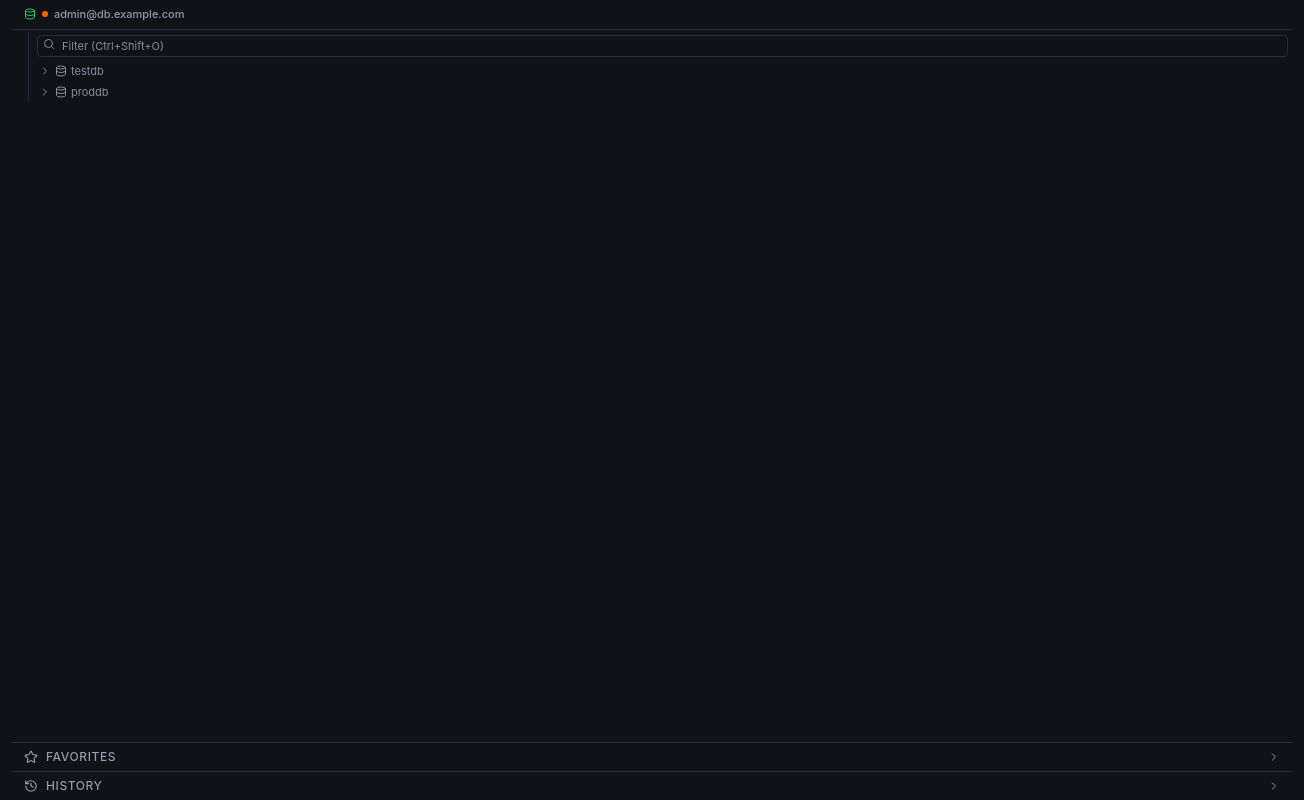
Sidebar (browser) › with active connection › collapses database on second click
Expected: the text "testdb" is shown, 71,63 -> 104,80
Click the list item "testdb" at x=87, y=71, box 33,61 -> 1292,82
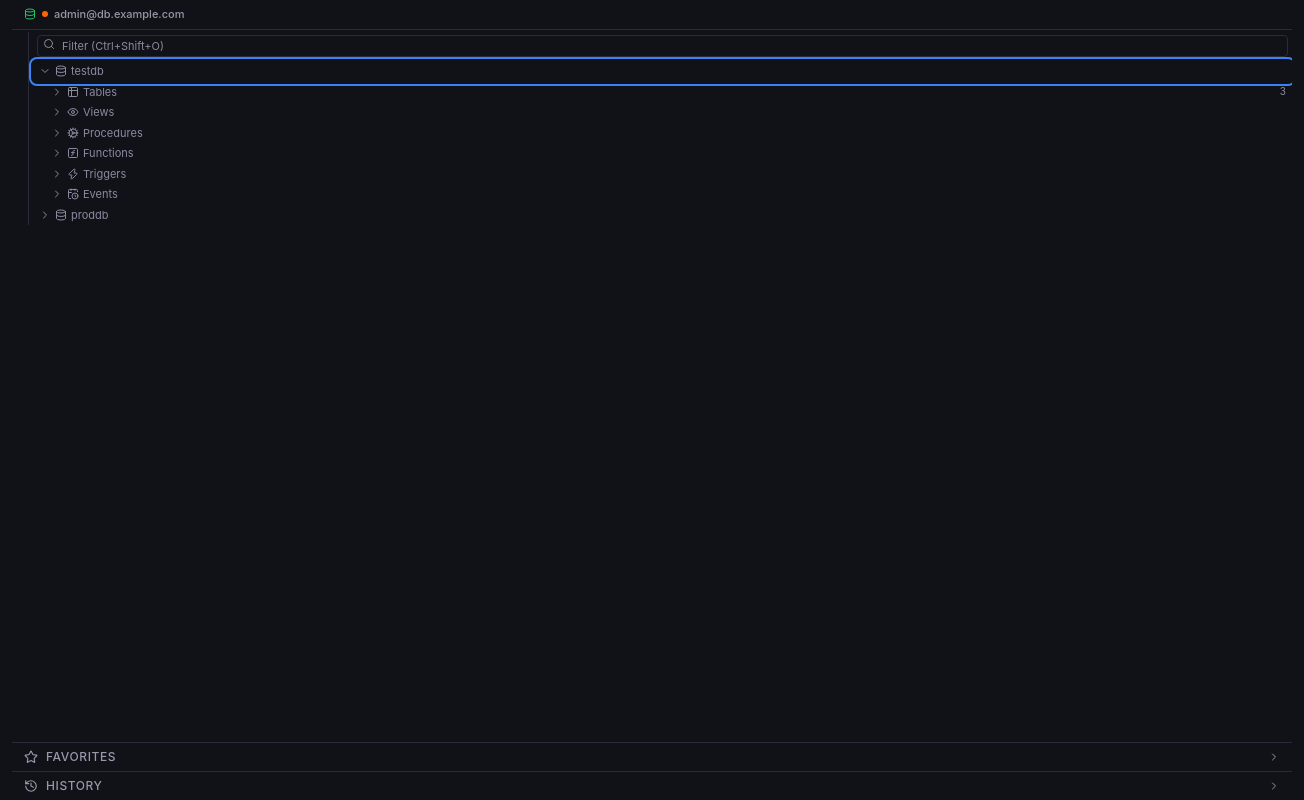
Result: the text "Tables" is shown at 83,84 -> 117,100
Click the list item "testdb" at x=87, y=71, box 33,61 -> 1292,82
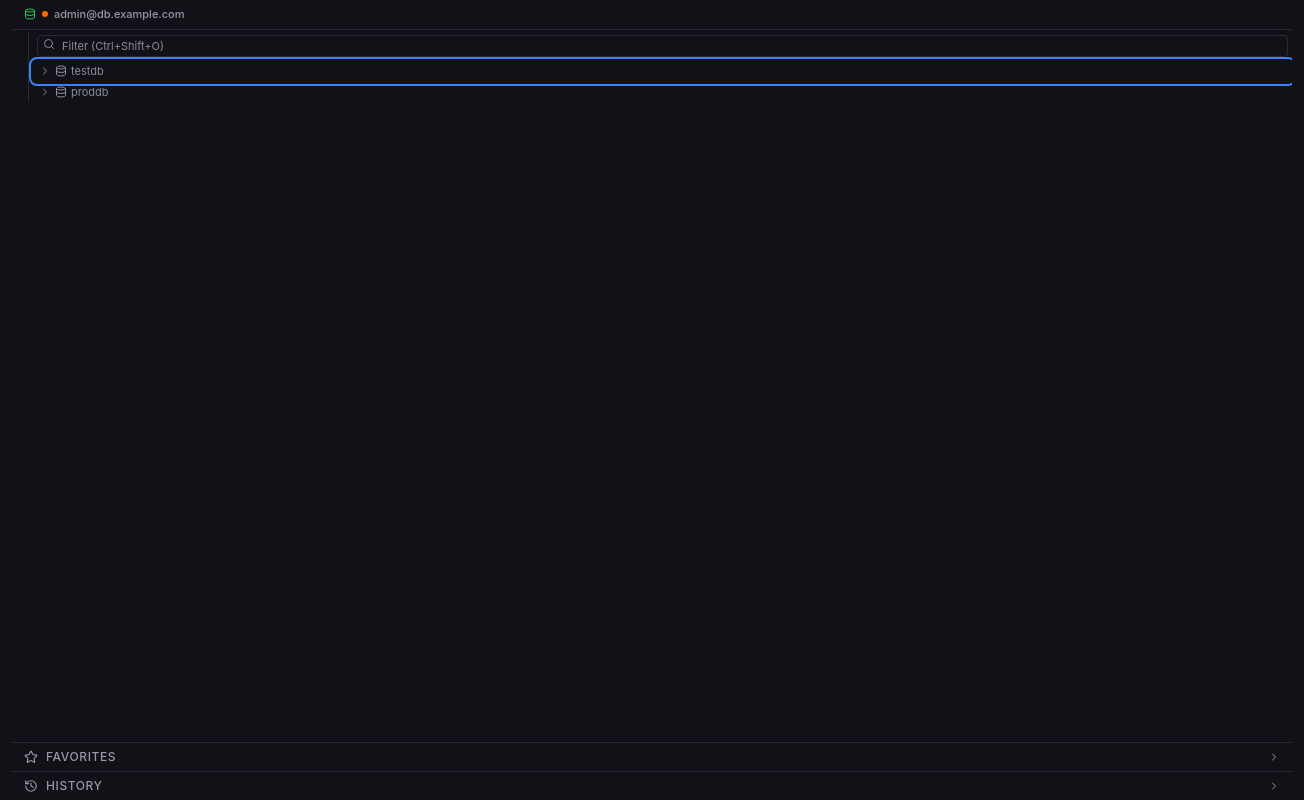
Result: the list item "Tables" is gone
